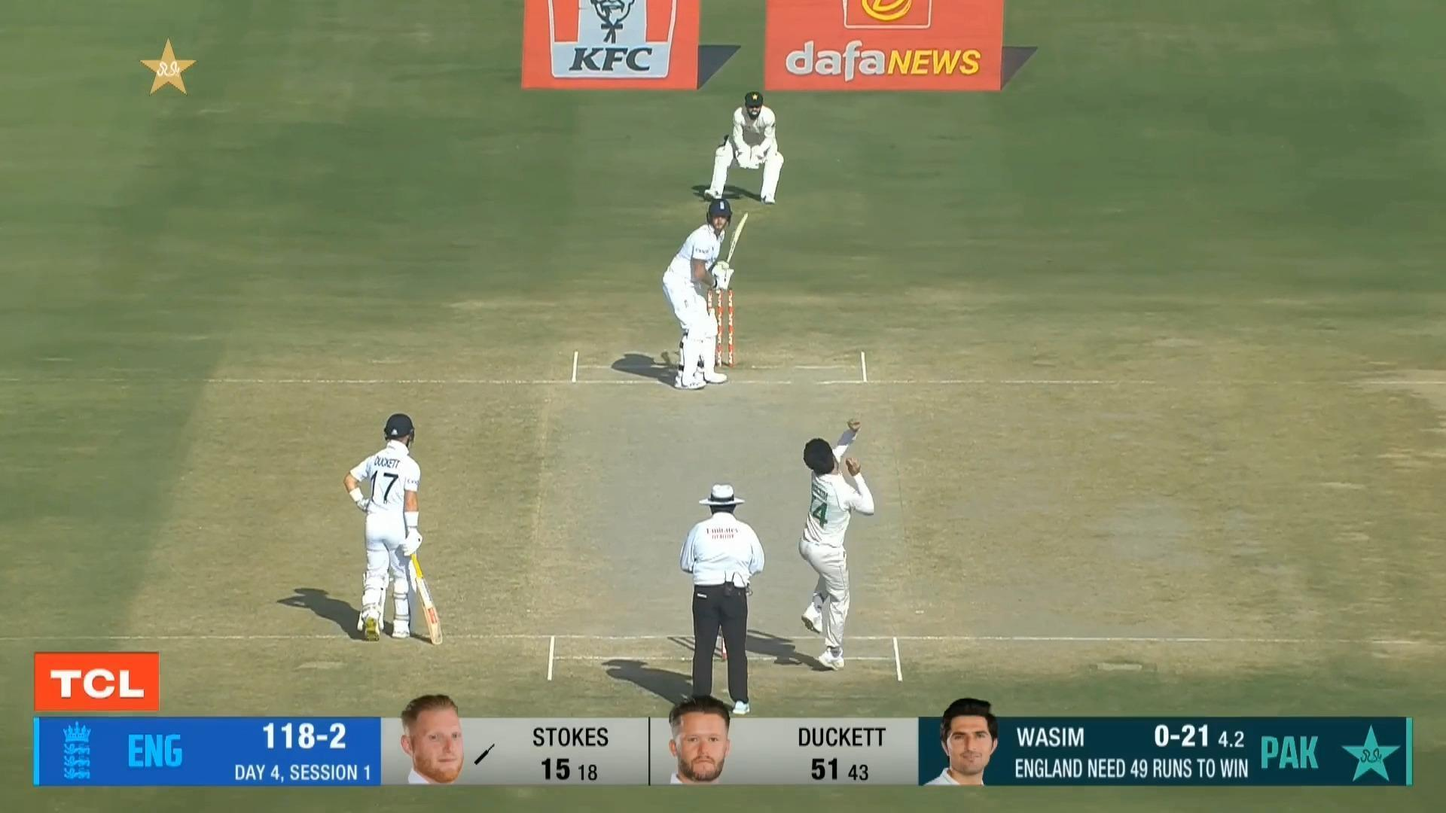BM 1: (341, 410, 430, 642), (660, 197, 750, 391)
BO: (795, 413, 877, 674)
